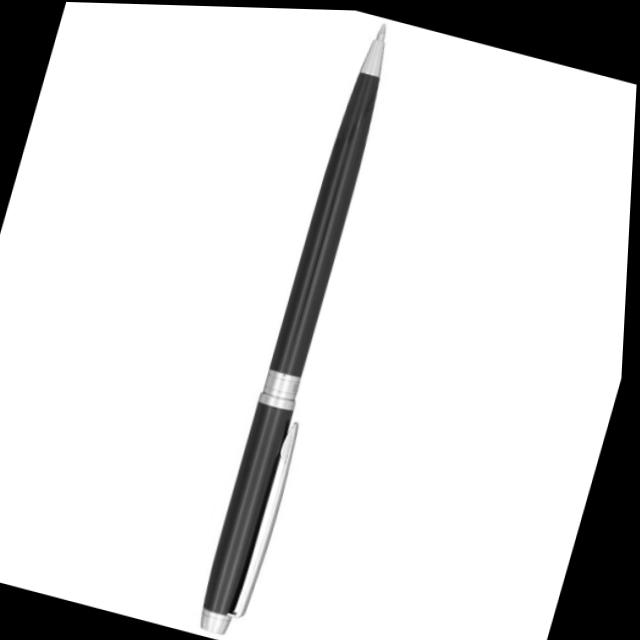pen: (191, 11, 416, 640)
